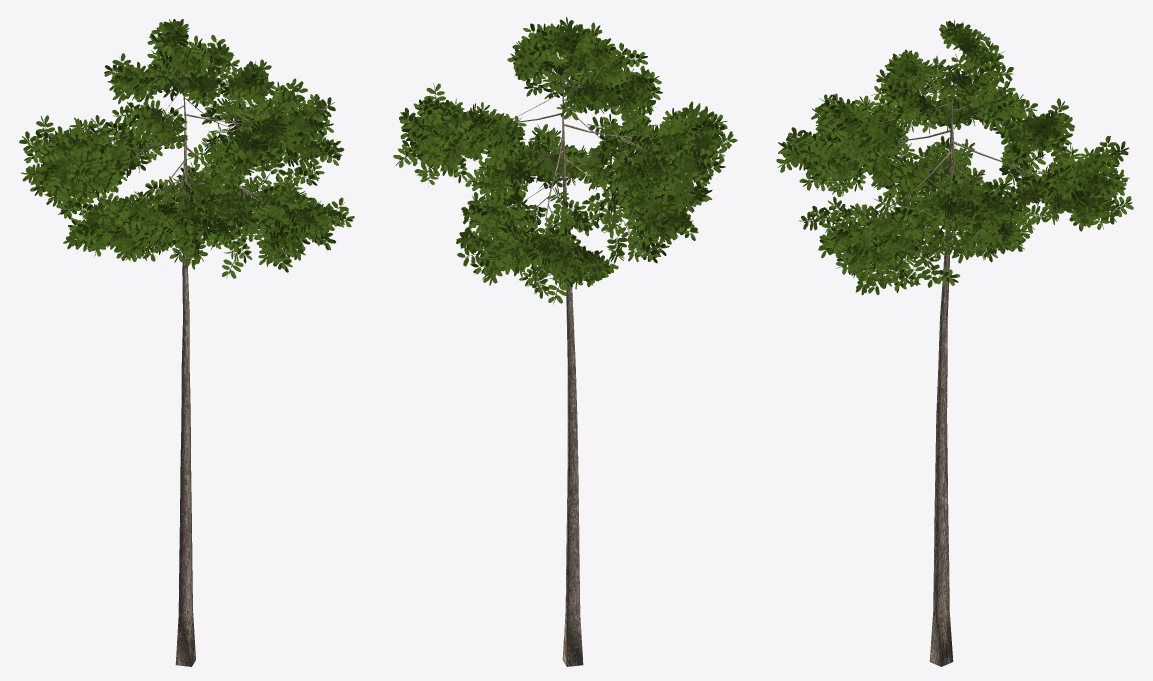
Rendered from MerantiTree_002.fbx.
3 views of the same model, side by side, from view 1: azimuth 30°, elevation 25°; view 2: azimuth 150°, elevation 25°; view 3: azimuth 270°, elevation 25° (orthographic).
Visible parts, largest first — view 1: MerantiTree.002; view 2: MerantiTree.002; view 3: MerantiTree.002.
Boxes of the visible parts, <box> form: MerantiTree.002: <box>19,19,354,666</box>; MerantiTree.002: <box>393,17,737,666</box>; MerantiTree.002: <box>776,19,1133,666</box>.
Size of the model in its own units: 1490 by 3243 by 1675.
2 materials, 2 textured.
